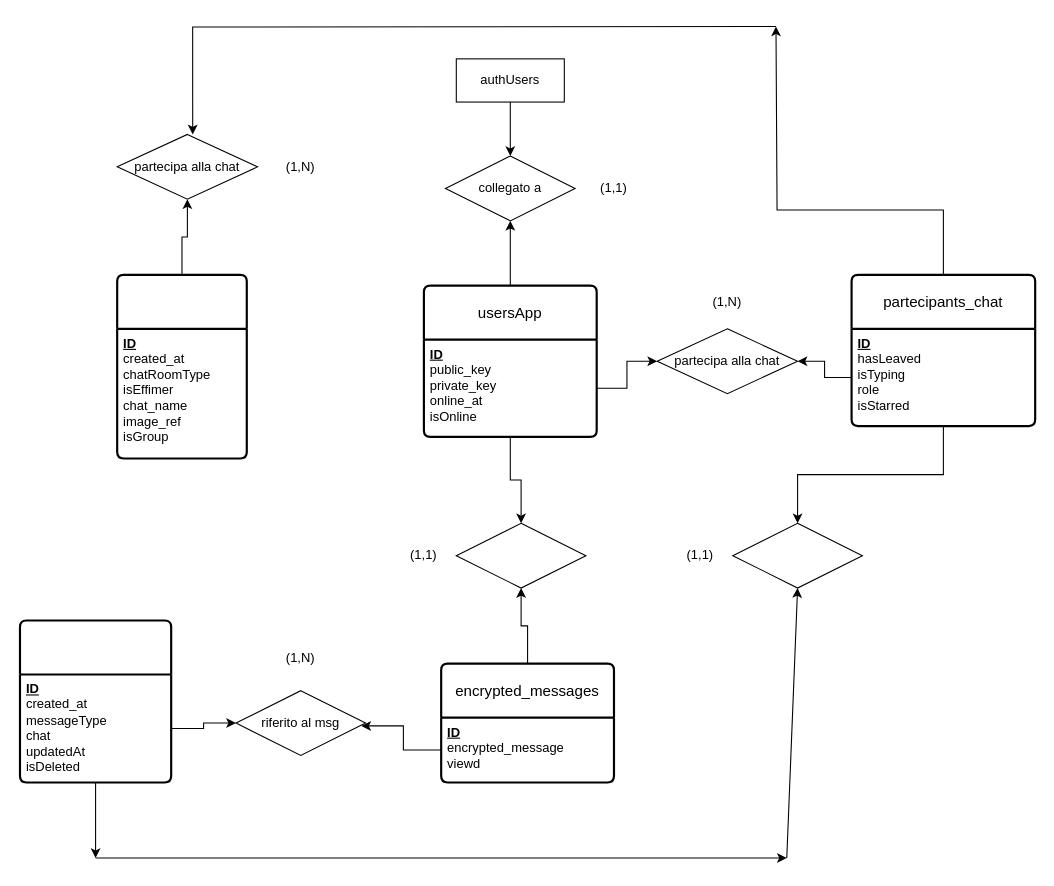
Some shapes in this 1054 by 886 pixel diagram are drawn without their labels. The box of each missing label's shape, as (x1, y1, x2, y2) in pixels:
chats: (116, 273, 247, 459)
inviato da: (732, 522, 862, 588)
inviato_a: (455, 522, 586, 588)
messages: (18, 619, 172, 783)
